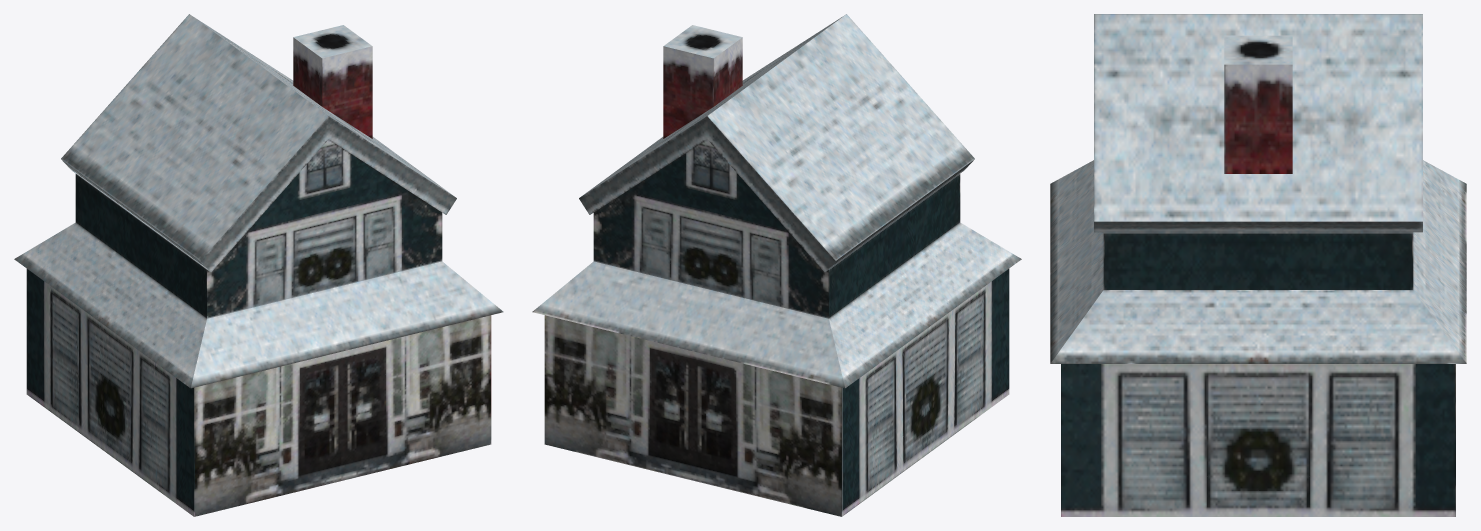
File: TurquoiseHouse.fbx
3 renders of one model, left to right at view 1: azimuth 30°, elevation 25°; view 2: azimuth 150°, elevation 25°; view 3: azimuth 270°, elevation 25°, orthographic. The views are drawn at different scales.
Visible parts, largest first — view 1: TuquoiseHouse; view 2: TuquoiseHouse; view 3: TuquoiseHouse.
Part boxes in pixels (x1,y1,x2,y2): TuquoiseHouse: (14,14,503,516); TuquoiseHouse: (532,14,1021,516); TuquoiseHouse: (1050,14,1466,516).
Size of the model in its own units: 800 by 878 by 782.
